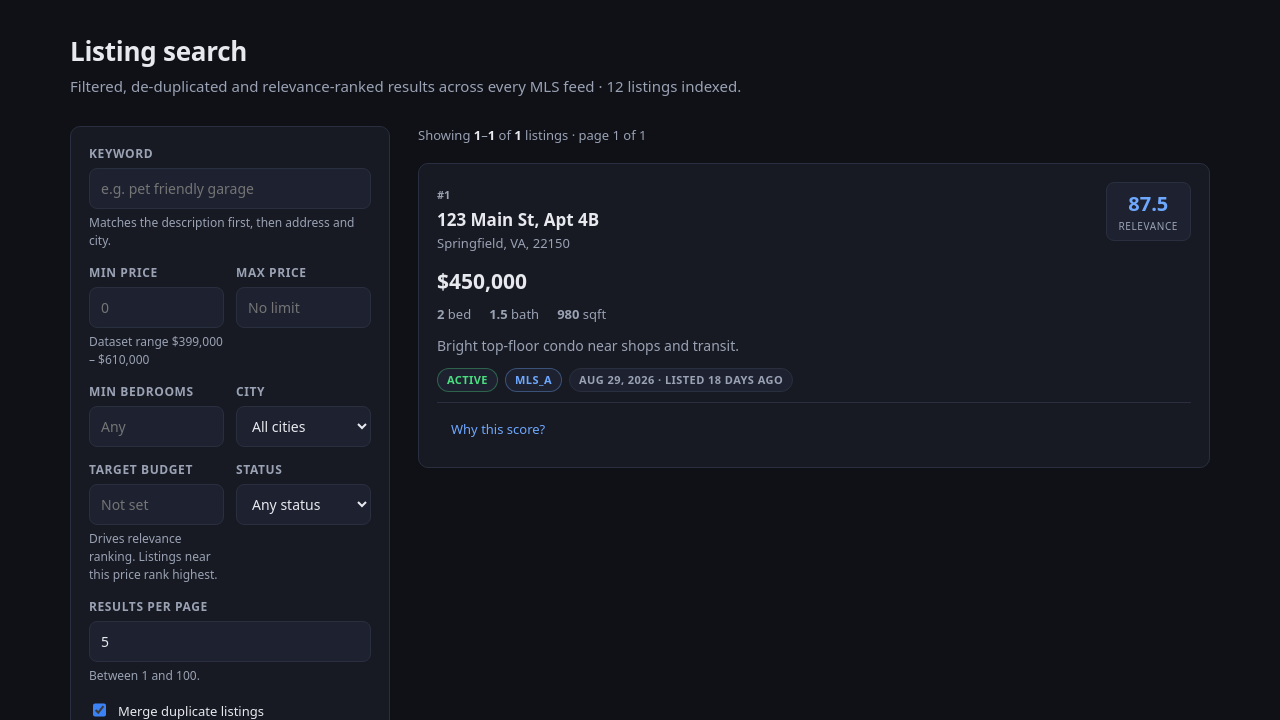
Test case: App — invalid input › blocks the request and explains the problem inline
Expected: the element that starts with "123 Main St, Apt 4B" is shown, x1=418 y1=163 x2=1210 y2=468
Type "600000" into the number field labelled "Min price" at (156, 307), box x1=89 y1=286 x2=224 y2=328
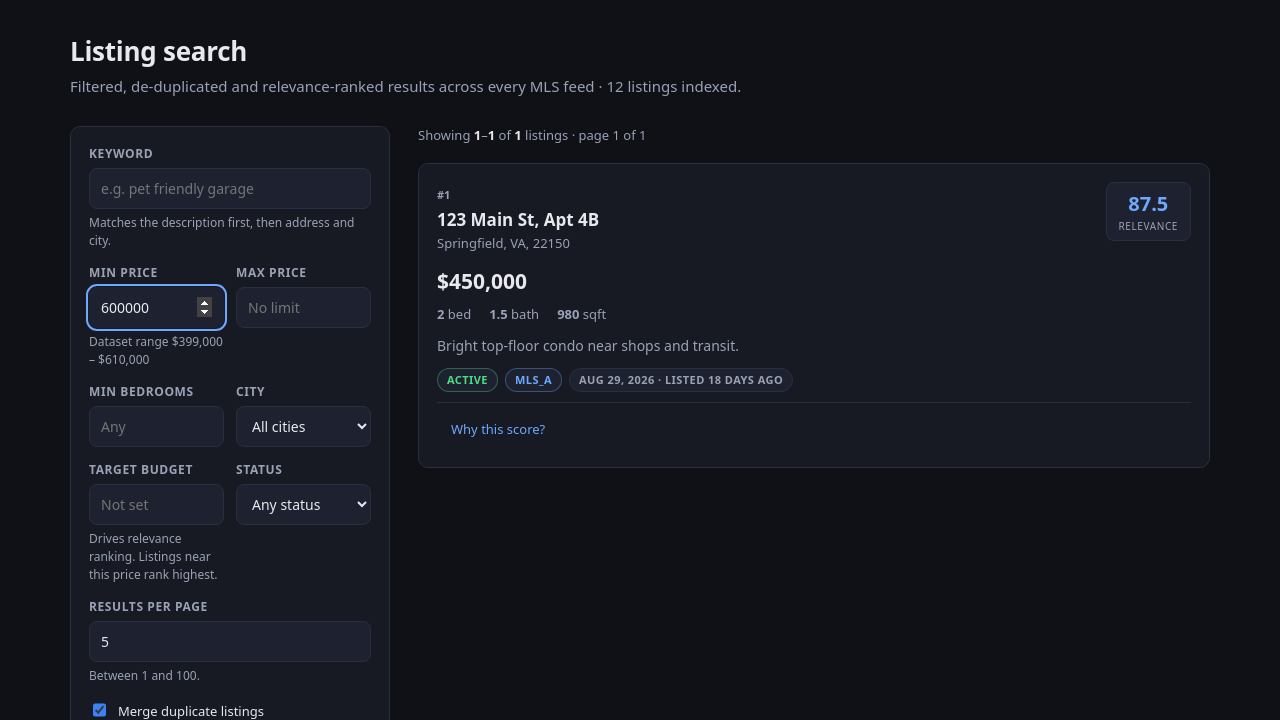
Type "400000" into the number field labelled "Max price" at (304, 307), box x1=236 y1=286 x2=371 y2=328
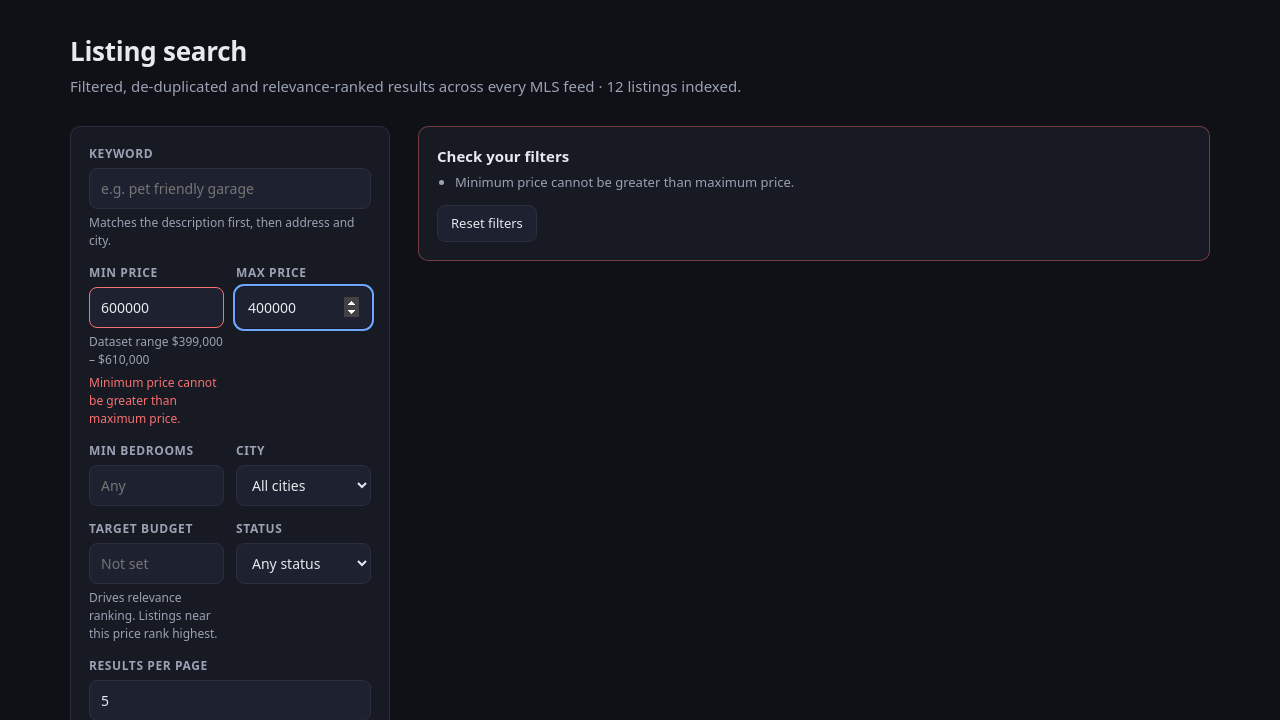
Now the heading "Check your filters" is shown, box x1=437 y1=146 x2=569 y2=166
